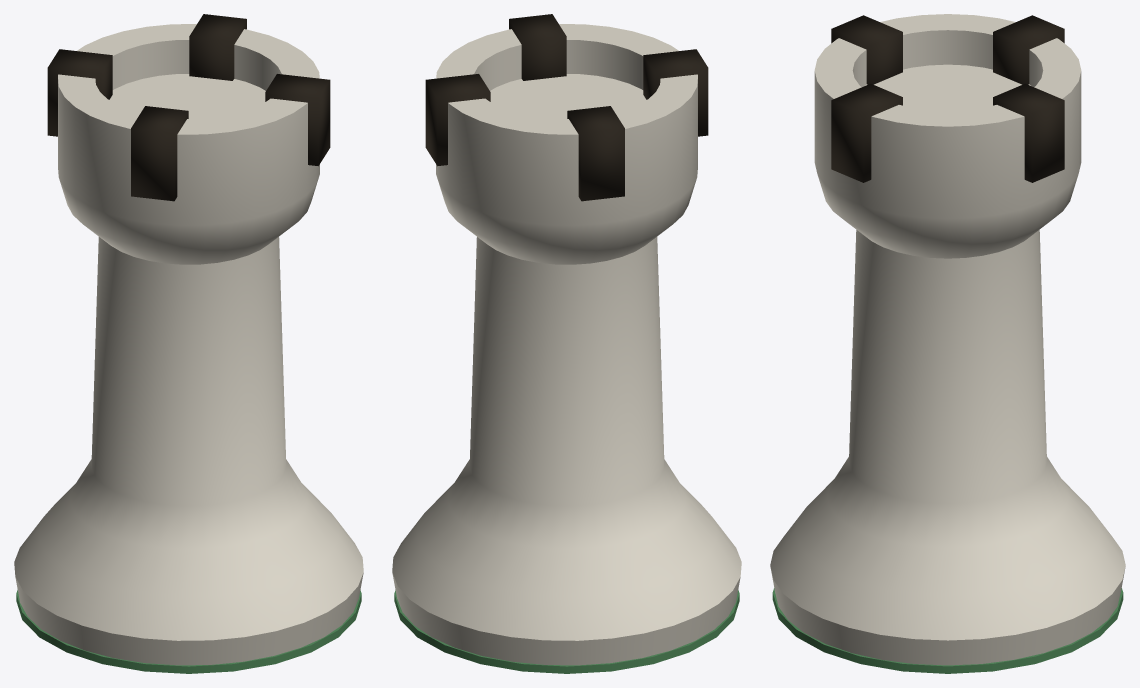
File: chess_rook_w.glb
The picture shows the model from 3 angles, left to right: view 1: azimuth 30°, elevation 25°; view 2: azimuth 150°, elevation 25°; view 3: azimuth 270°, elevation 25°; orthographic projection.
Visible parts, largest first — view 1: Piece, Notch.003, Felt, Notch.001, Notch, Notch.002; view 2: Piece, Notch.002, Felt, Notch, Notch.001, Notch.003; view 3: Piece, Notch, Notch.001, Felt, Notch.002, Notch.003.
Part boxes in pixels (x1=…): Piece: x1=14, y1=24, x2=363, y2=665; Notch.003: x1=131, y1=106, x2=188, y2=201; Felt: x1=16, y1=590, x2=361, y2=673; Notch.001: x1=189, y1=14, x2=246, y2=80; Notch: x1=265, y1=74, x2=330, y2=166; Notch.002: x1=47, y1=49, x2=112, y2=136; Piece: x1=392, y1=24, x2=741, y2=665; Notch.002: x1=567, y1=106, x2=624, y2=201; Felt: x1=394, y1=590, x2=739, y2=673; Notch: x1=509, y1=14, x2=566, y2=80; Notch.001: x1=425, y1=74, x2=490, y2=166; Notch.003: x1=643, y1=49, x2=708, y2=136; Piece: x1=770, y1=14, x2=1125, y2=665; Notch: x1=831, y1=83, x2=902, y2=182; Notch.001: x1=993, y1=83, x2=1064, y2=182; Felt: x1=772, y1=588, x2=1123, y2=673; Notch.002: x1=993, y1=15, x2=1064, y2=84; Notch.003: x1=831, y1=15, x2=902, y2=84.
Size of the model in its own units: 0.0342 by 0.0568 by 0.0342.
